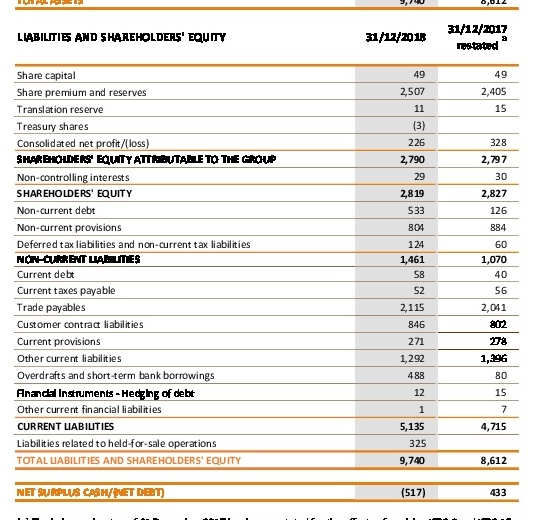table: (0, 0, 535, 520)
